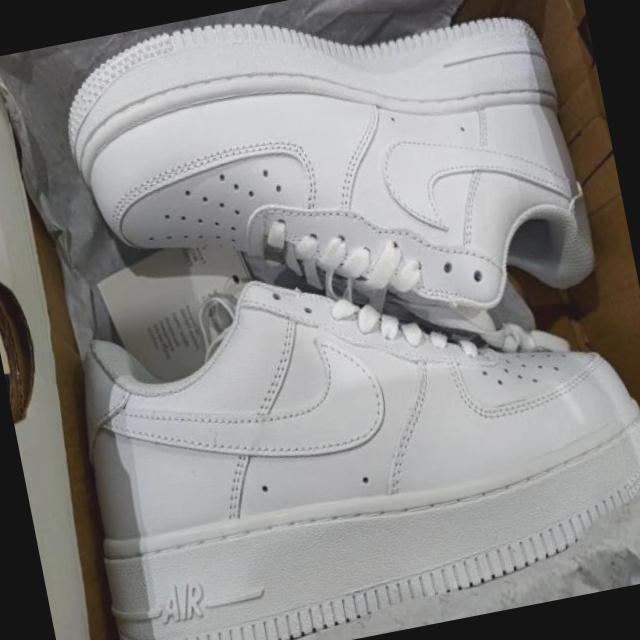nike_original_airforce: (60, 207, 640, 640), (51, 0, 612, 413)
